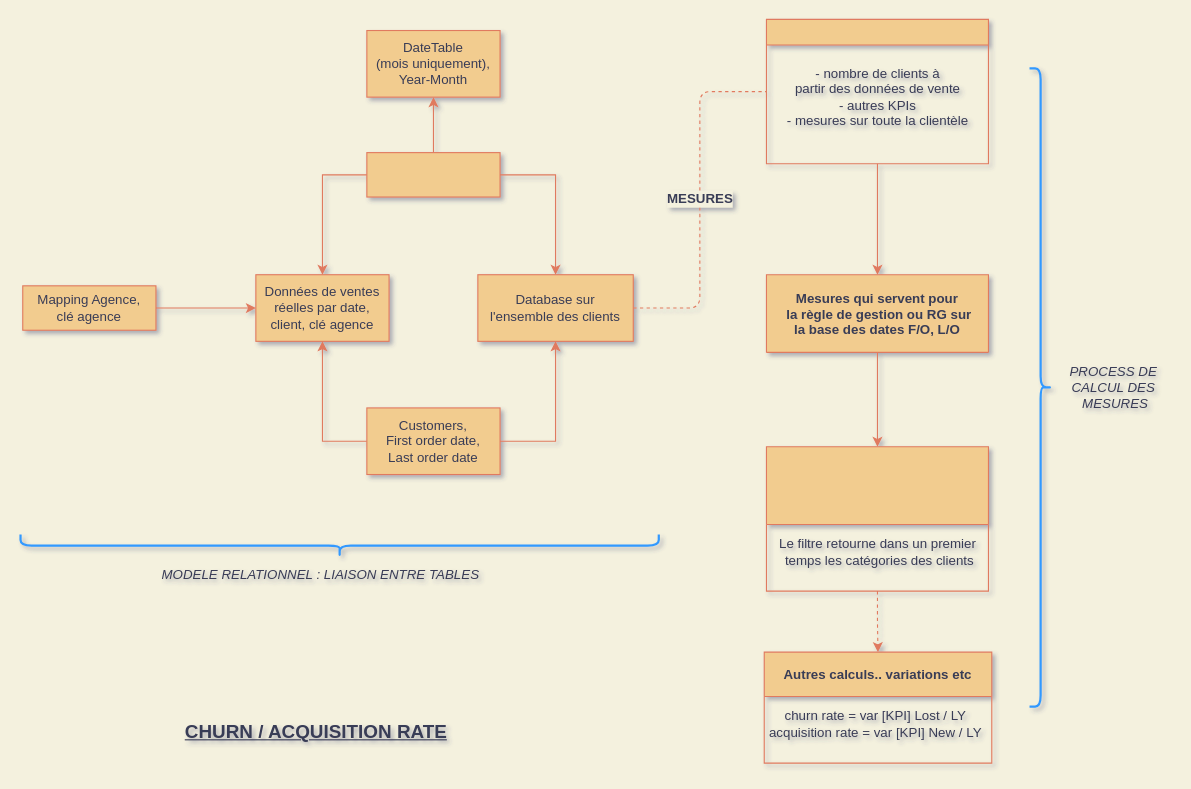
Some shapes in this 1191 by 789 pixel diagram are drawn without their labels. Here are the shapes that lost their labels. From the top down, the box of each, then its label:
(765, 18, 988, 164): Mesures basiques
(366, 152, 500, 197): DateTable (jour), Year-Month
(765, 446, 988, 591): Passer les mesures dans chaque variable de filtre
